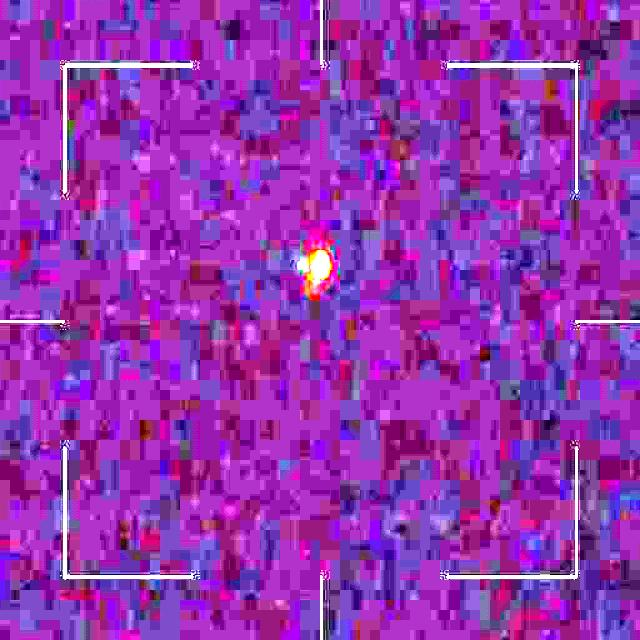bird: (296, 244, 336, 294)
